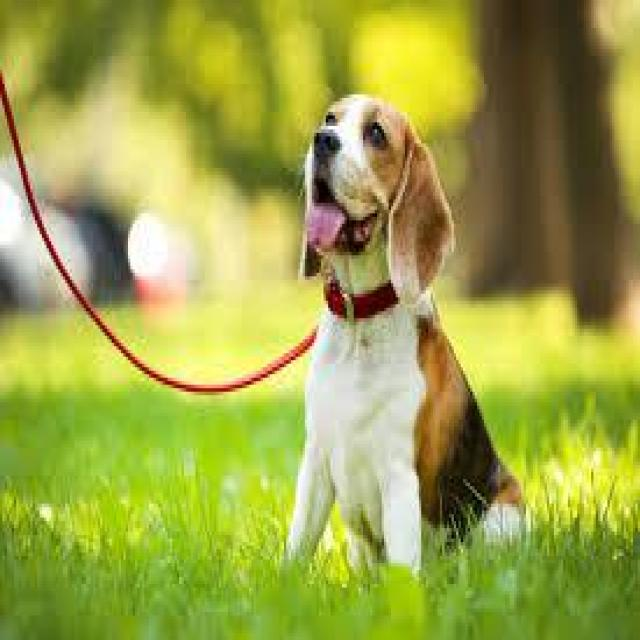dog: (268, 103, 544, 640)
